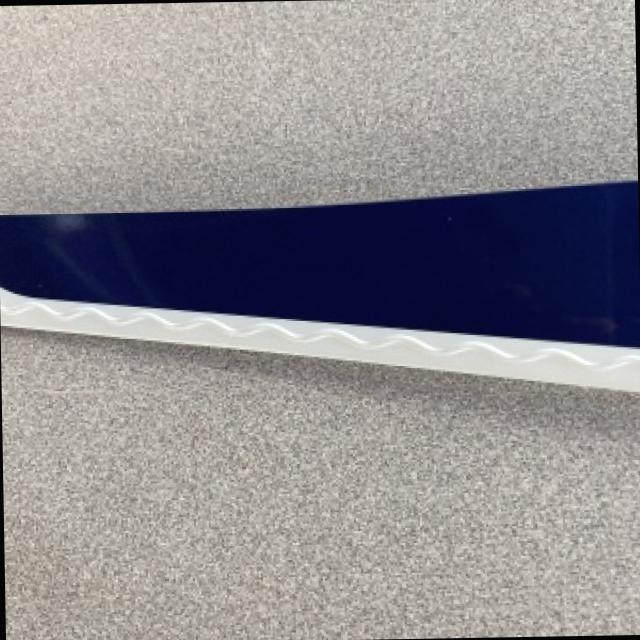healthy: (2, 326, 640, 640), (0, 178, 640, 389)
